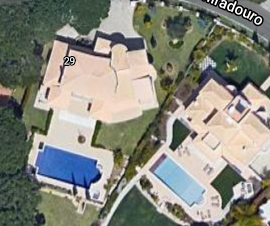pool: (36, 147, 98, 184), (158, 158, 199, 202)
